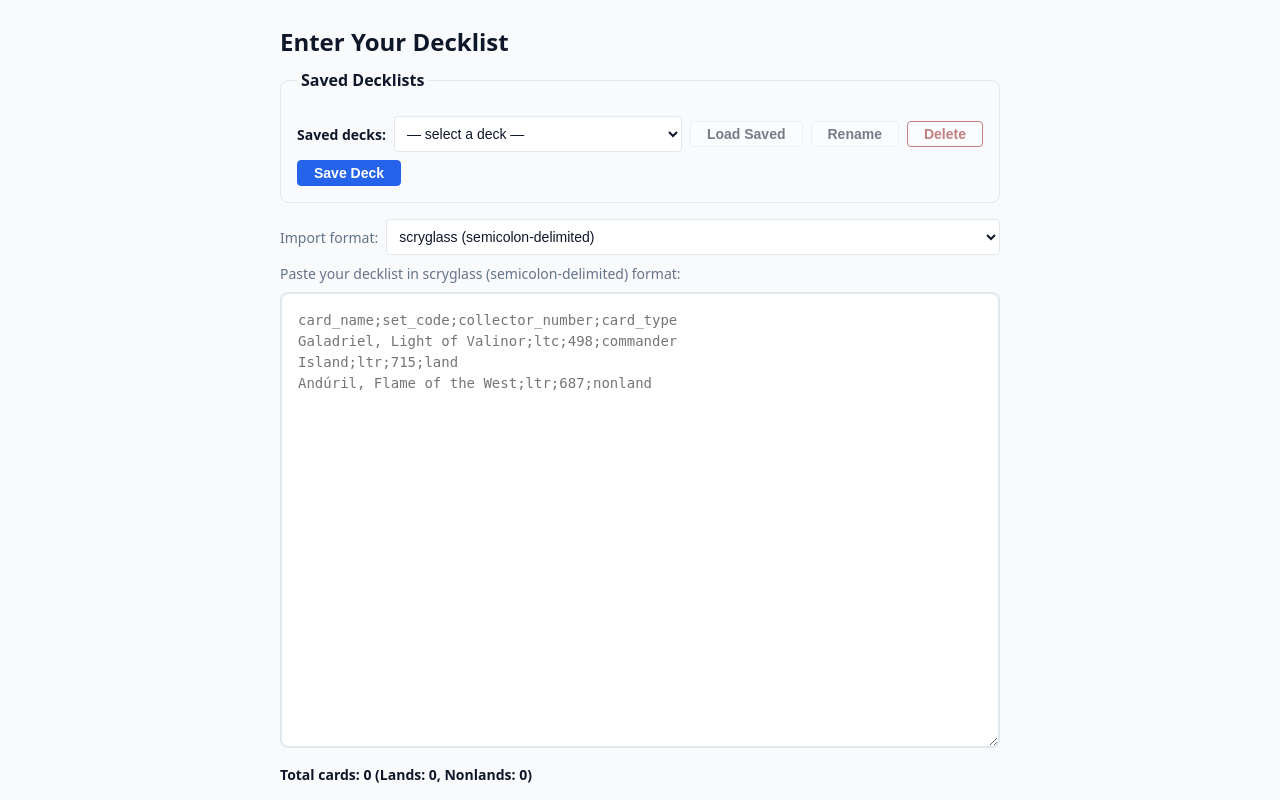
Test case: <DeckInput /> — deck storage › shows overwrite confirmation for duplicate name
Click the button "Save Deck".
click(349, 173)  # box [297,160,401,186]
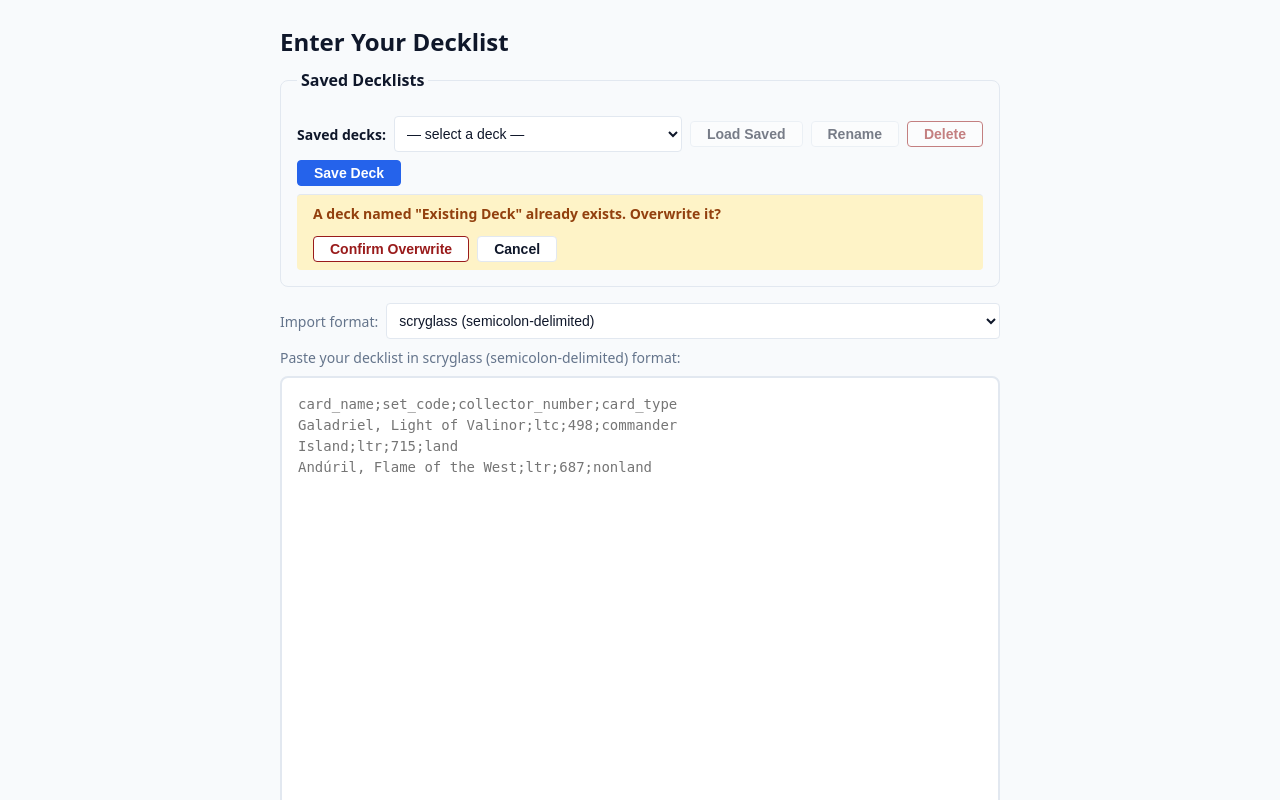
expect the text "A deck named \"Existing Deck\" already exists. Overwrite it?" is shown: met, box [313,204,721,223]
expect the button "Confirm Overwrite" is shown: met, box [313,236,469,262]
